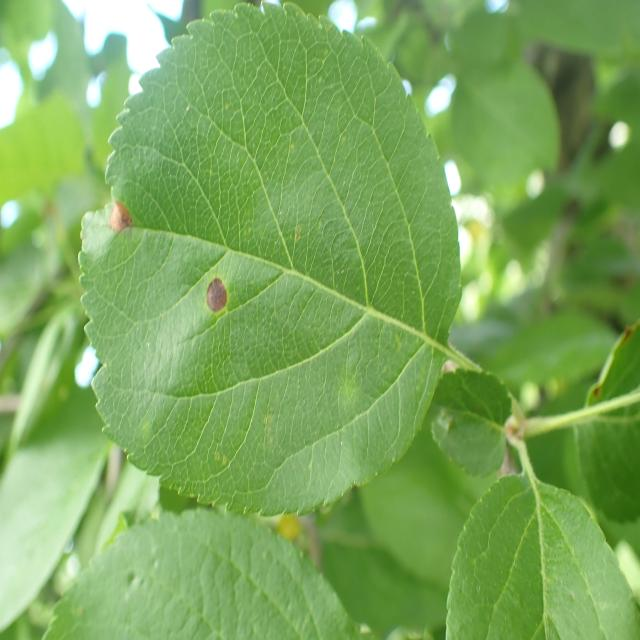frog-eye-leaf-spot: (77, 2, 464, 520)
